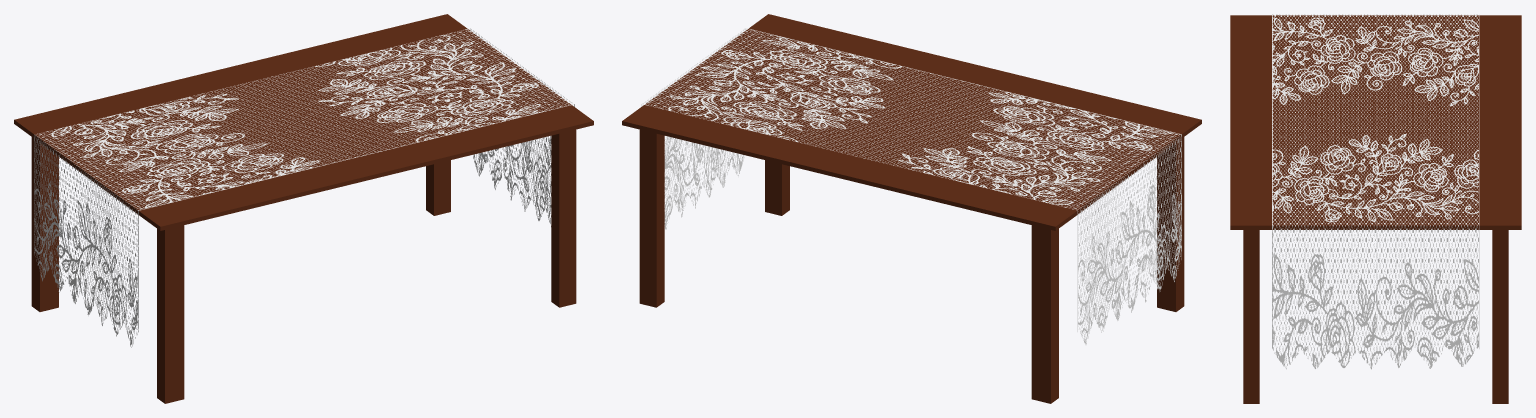
The model's file is Towel01.fbx.
3 renders of one model, left to right at view 1: azimuth 30°, elevation 25°; view 2: azimuth 150°, elevation 25°; view 3: azimuth 270°, elevation 25°, orthographic.
Parts seen in each view (by area): view 1: Mesa, Toalha; view 2: Mesa, Toalha; view 3: Mesa, Toalha.
Boxes of the visible parts, left/top/right/bottom form: Mesa: left=14, top=14, right=593, bottom=403; Toalha: left=34, top=28, right=574, bottom=347; Mesa: left=622, top=14, right=1201, bottom=403; Toalha: left=641, top=28, right=1181, bottom=344; Mesa: left=1230, top=15, right=1521, bottom=403; Toalha: left=1272, top=14, right=1479, bottom=369.
Size of the model in its own units: 86.07 by 34.97 by 49.98.
2 materials, 1 textured.
